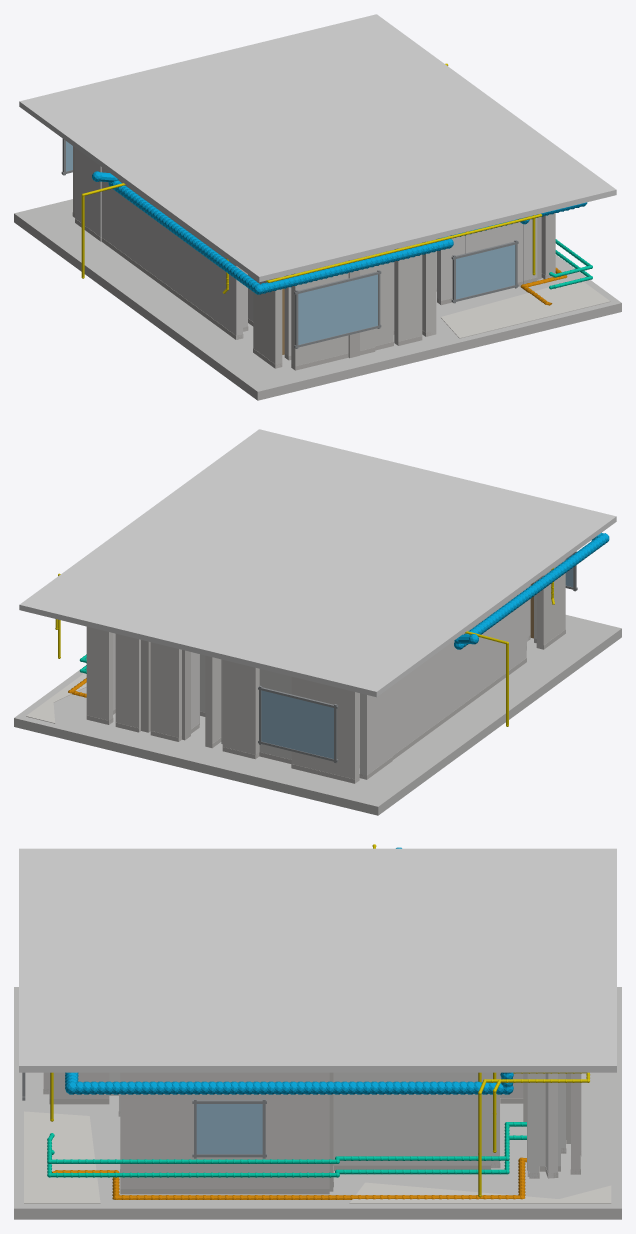
The model's file is bim_8ac706eca1c8.glb.
The picture shows the model from 3 angles, top to bottom: view 1: azimuth 30°, elevation 25°; view 2: azimuth 150°, elevation 25°; view 3: azimuth 270°, elevation 25°; orthographic projection. The views are drawn at different scales.
Parts seen in each view (by area): view 1: arch_geometry_1, arch_geometry_0, arch_geometry_2, arch_geometry_489, arch_geometry_435, mep_hvac_hvac_38a210, arch_geometry_494, arch_geometry_212, arch_geometry_164, arch_geometry_88, arch_geometry_254, arch_geometry_42 (+8 smaller); view 2: arch_geometry_1, arch_geometry_0, arch_geometry_2, arch_geometry_499, arch_geometry_28, arch_geometry_342, arch_geometry_60, arch_geometry_254, arch_geometry_116, arch_geometry_246, mep_hvac_hvac_38a210, arch_geometry_164 (+7 smaller); view 3: arch_geometry_1, arch_geometry_0, arch_geometry_8, arch_geometry_30, mep_hvac_hvac_5878e9, arch_geometry_435, arch_geometry_504, arch_geometry_436, mep_plumb_sup_plumb_sup_2f9fdd, mep_plumb_sup_plumb_sup_6551ea, mep_plumb_drn_plumb_drn_24a6cd, arch_geometry_298 (+9 smaller).
Part boxes in pixels (x1,y1,x2,y2): arch_geometry_1: (19,14,616,282); arch_geometry_0: (14,199,621,400); arch_geometry_2: (101,167,242,339); arch_geometry_489: (298,274,377,344); arch_geometry_435: (440,281,610,338); mep_hvac_hvac_38a210: (92,171,453,294); arch_geometry_494: (456,244,515,299); arch_geometry_212: (394,242,422,345); arch_geometry_164: (253,277,282,368); arch_geometry_88: (291,260,348,370); arch_geometry_254: (75,147,101,241); arch_geometry_42: (465,222,523,282); arch_geometry_1: (19,429,616,697); arch_geometry_0: (14,615,621,815); arch_geometry_2: (392,588,526,755); arch_geometry_499: (261,690,333,758); arch_geometry_28: (291,676,359,783); arch_geometry_342: (222,660,259,756); arch_geometry_60: (150,642,181,741); arch_geometry_254: (360,686,392,779); arch_geometry_116: (86,626,112,724); arch_geometry_246: (115,633,140,732); mep_hvac_hvac_38a210: (454,532,609,649); arch_geometry_164: (537,559,565,649); arch_geometry_1: (19,848,616,1072); arch_geometry_0: (14,987,621,1219); arch_geometry_8: (120,1072,329,1188); arch_geometry_30: (333,1072,490,1165); mep_hvac_hvac_5878e9: (65,1072,513,1094); arch_geometry_435: (24,1111,100,1203); arch_geometry_504: (196,1104,262,1154); arch_geometry_436: (349,1182,611,1203); mep_plumb_sup_plumb_sup_2f9fdd: (47,1135,526,1177); mep_plumb_sup_plumb_sup_6551ea: (47,1122,526,1163); mep_plumb_drn_plumb_drn_24a6cd: (52,1157,526,1199); arch_geometry_298: (545,1073,557,1178).
Bounding box in the file's own units: 11.96 × 3.4 × 12.36.
